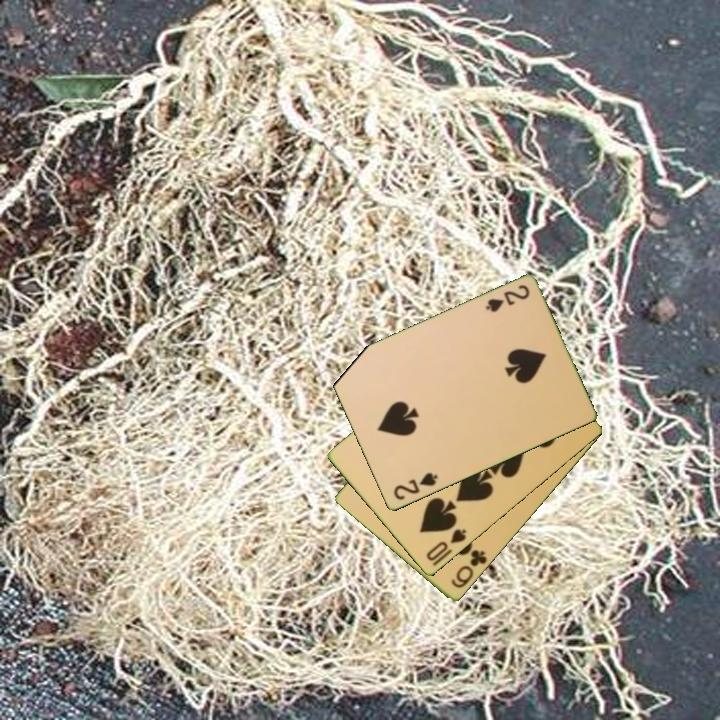10s: (423, 525, 469, 564)
2s: (390, 469, 441, 504), (482, 281, 532, 316)
6c: (448, 546, 490, 591)
